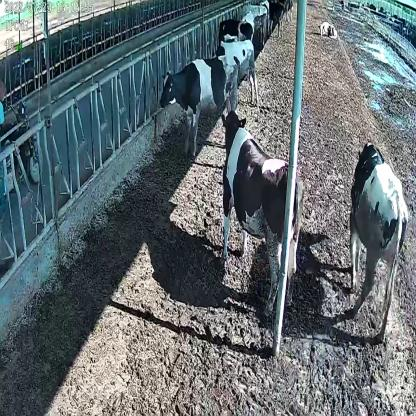cow: (219, 109, 304, 314), (348, 138, 410, 343), (159, 52, 240, 156), (210, 38, 259, 107), (319, 19, 338, 41)
